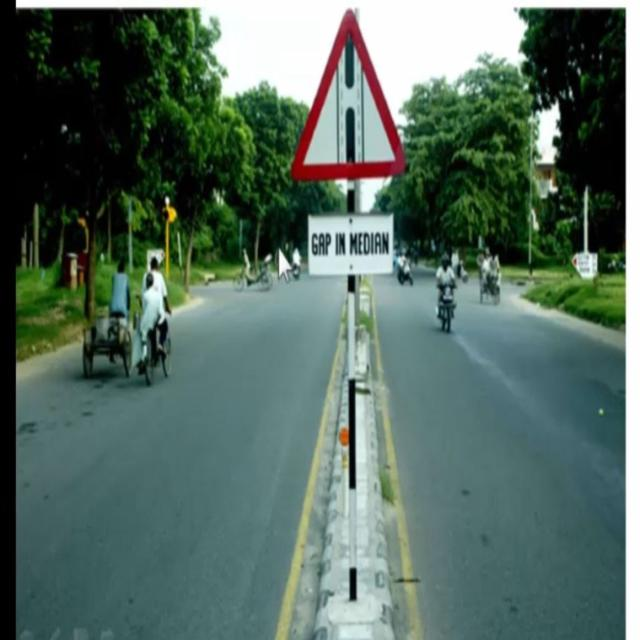gap_in_median: (291, 9, 405, 180)
